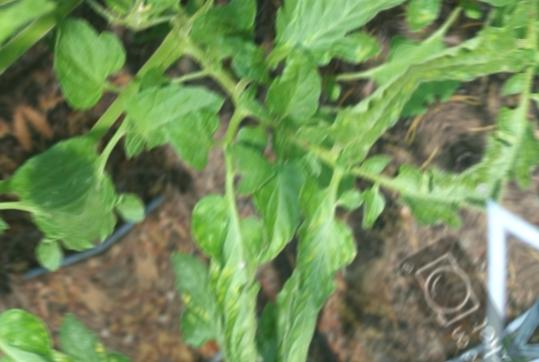Tomato leaf mosaic virus: (217, 194, 404, 362), (212, 0, 403, 121), (40, 112, 156, 249), (29, 0, 145, 115), (240, 42, 345, 152), (150, 90, 233, 175), (298, 340, 448, 362), (170, 0, 344, 18)
